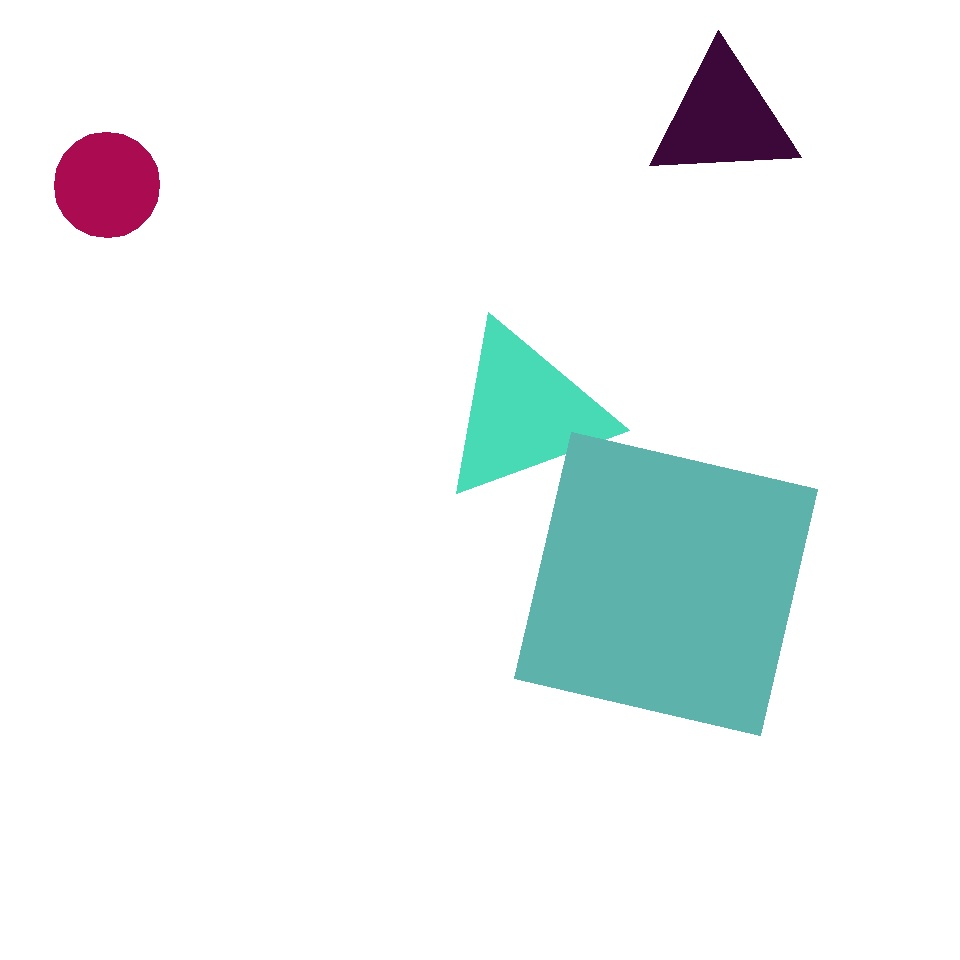circle: (578, 404, 870, 666), (412, 554, 616, 788), (438, 321, 612, 502), (647, 50, 799, 186), (217, 266, 332, 372)
square: (514, 432, 818, 736)
triangle: (594, 294, 958, 660), (453, 414, 676, 636), (55, 132, 160, 238)
